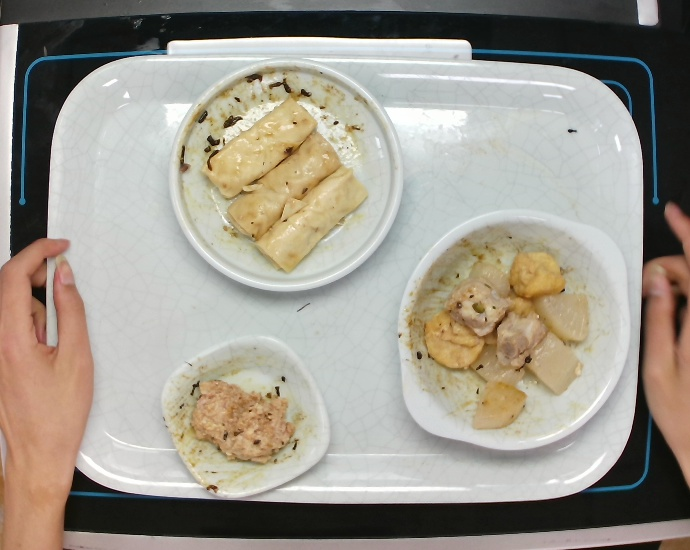JYsf-Shuang_Er_Wan: (392, 204, 638, 455)
JYsf-Si_Fang_Die: (154, 330, 336, 504)
JYsf-Xiao_Yuan_Pan: (162, 51, 410, 298)
